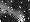person: (1, 1, 29, 22)
